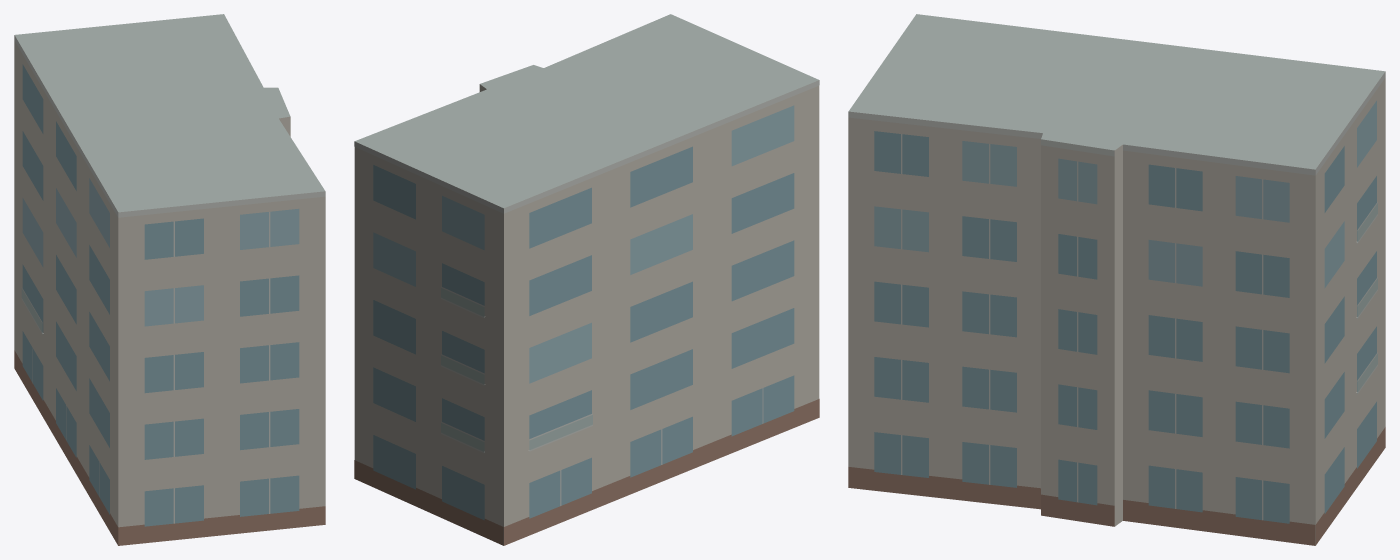
The model's file is survey-upis-32868540.glb.
3 views of the same model, side by side, from view 1: azimuth 30°, elevation 25°; view 2: azimuth 150°, elevation 25°; view 3: azimuth 270°, elevation 25° (orthographic). The views are drawn at different scales.
Visible parts, largest first — view 1: survey-upis-32868540.tmp; view 2: survey-upis-32868540.tmp; view 3: survey-upis-32868540.tmp.
Boxes of the visible parts, x1,y1,x2,y2 form: survey-upis-32868540.tmp: (14, 14, 325, 545); survey-upis-32868540.tmp: (354, 14, 819, 545); survey-upis-32868540.tmp: (848, 14, 1385, 545).
Bounding box in the file's own units: 13.53 × 15.25 × 19.74.
